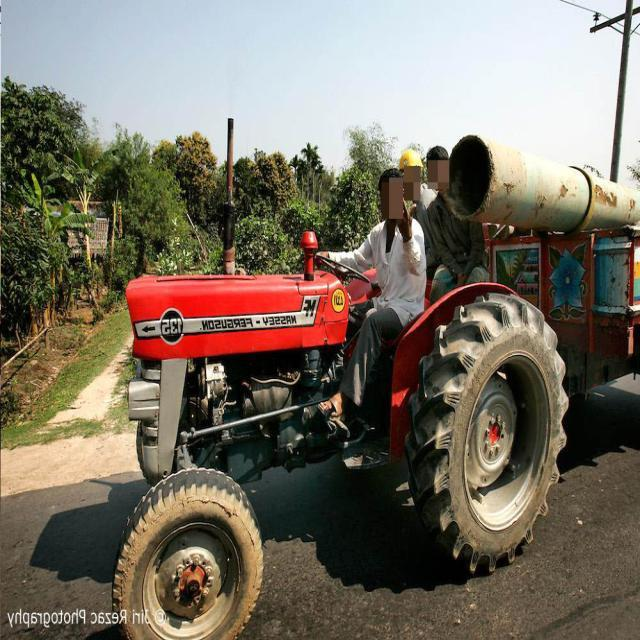Tratores - v5 YOLO V8L 2024-11-13: (102, 119, 564, 640)
